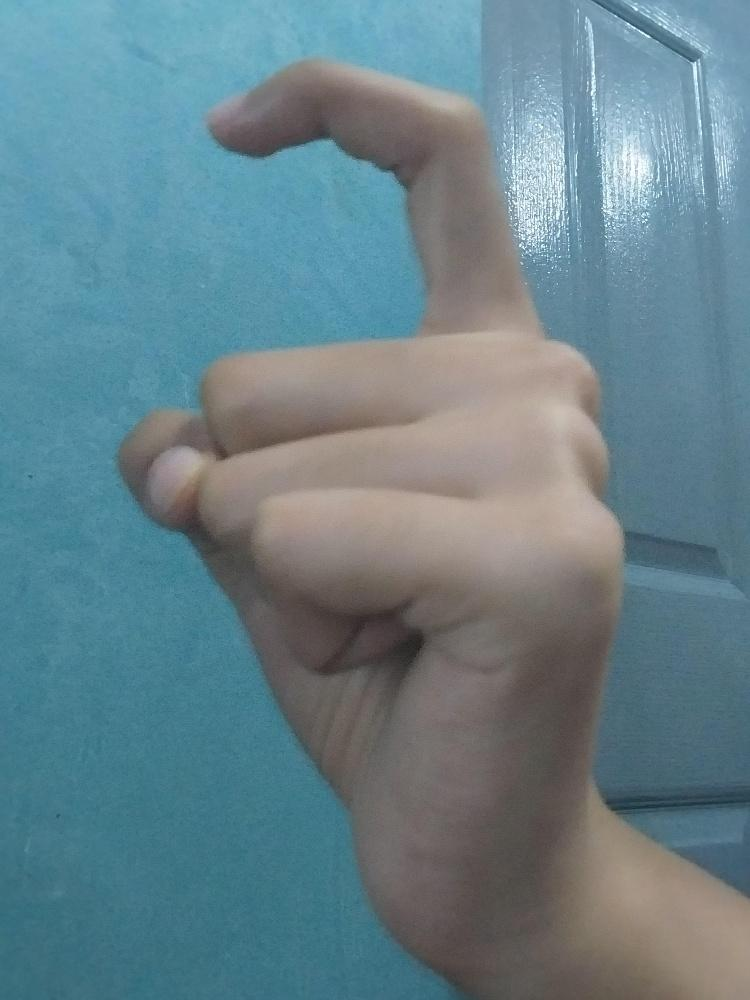x: (117, 50, 626, 999)
